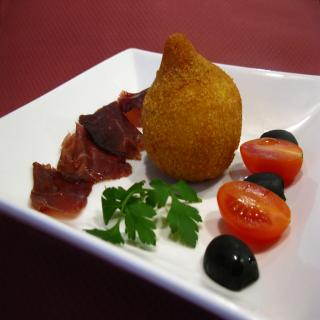tomato: (212, 180, 294, 244), (240, 138, 302, 184)
